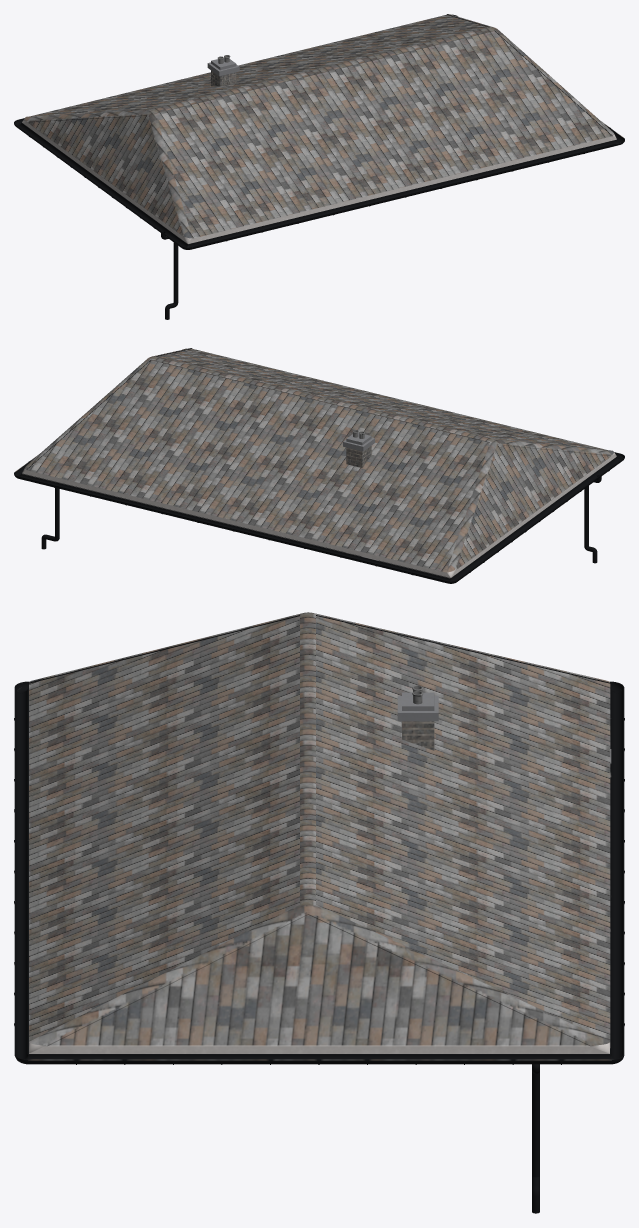
Rendered from Roof_Bake.fbx.
The picture shows the model from 3 angles, top to bottom: view 1: azimuth 30°, elevation 25°; view 2: azimuth 150°, elevation 25°; view 3: azimuth 270°, elevation 25°; orthographic projection. The views are drawn at different scales.
Visible parts, largest first — view 1: Cube.014; view 2: Cube.014; view 3: Cube.014.
Boxes of the visible parts, x1,y1,x2,y2 form: Cube.014: (14, 14, 624, 319); Cube.014: (14, 348, 624, 583); Cube.014: (14, 612, 624, 1213).
Size of the model in its own units: 1472 by 509 by 1003.
Materials: 1 (1 with a texture image).
